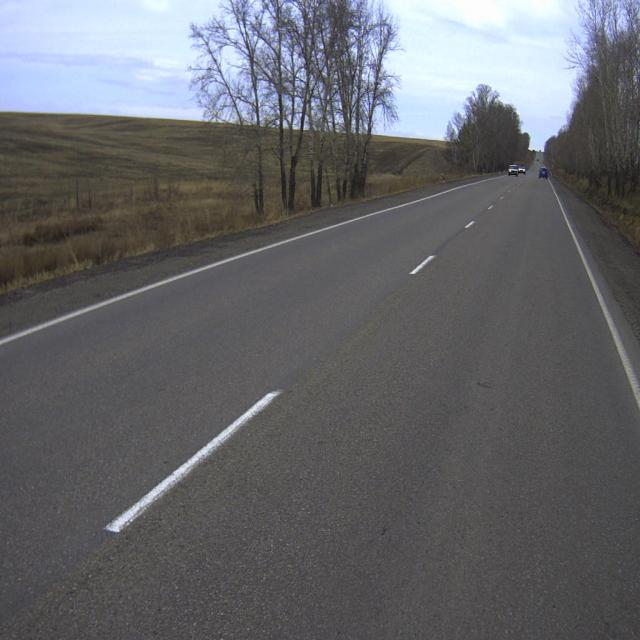road: (0, 152, 640, 639)
